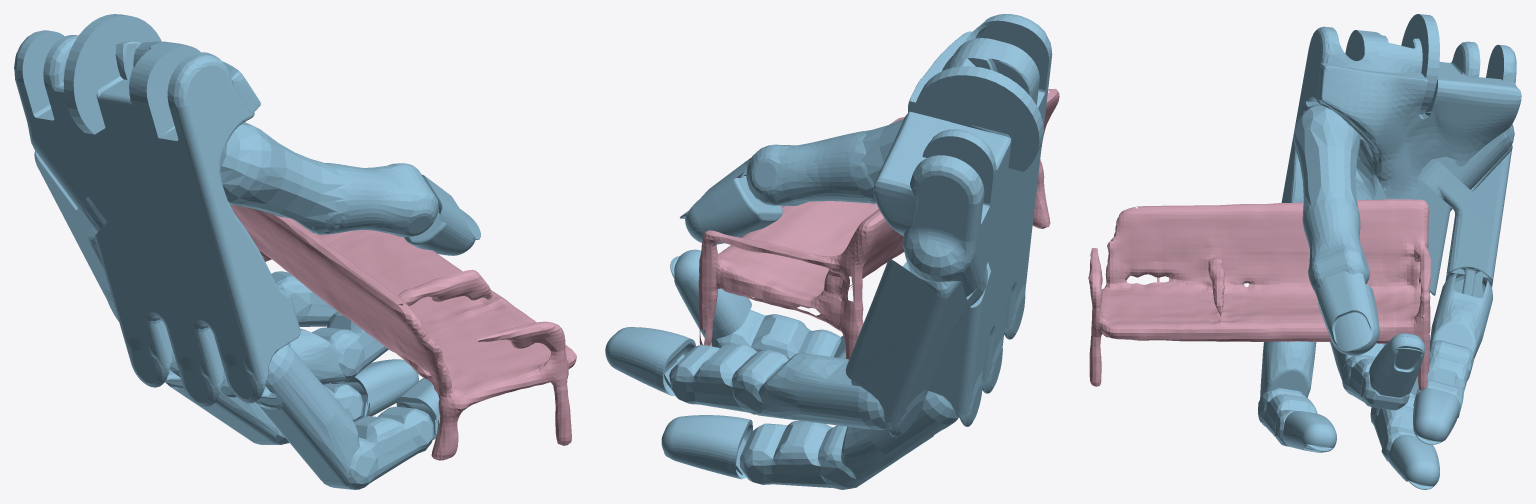
The picture shows the model from 3 angles, left to right: view 1: azimuth 30°, elevation 25°; view 2: azimuth 150°, elevation 25°; view 3: azimuth 270°, elevation 25°; orthographic projection. The views are drawn at different scales.
Parts seen in each view (by area): view 1: hand_isaac_q, world; view 2: hand_isaac_q, world; view 3: hand_isaac_q, world.
Boxes of the visible parts, x1=… form: hand_isaac_q: x1=14, y1=14, x2=480, y2=489; world: x1=230, y1=204, x2=576, y2=460; hand_isaac_q: x1=605, y1=14, x2=1052, y2=489; world: x1=698, y1=88, x2=1059, y2=359; hand_isaac_q: x1=1258, y1=14, x2=1521, y2=489; world: x1=1088, y1=199, x2=1430, y2=390.
Bounding box in the file's own units: 0.1424 × 0.1548 × 0.1659.
